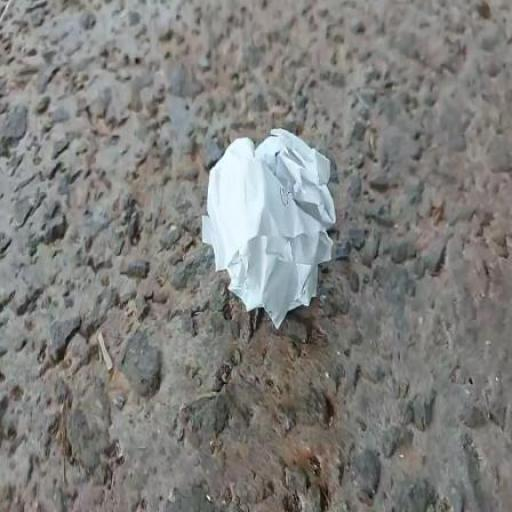paper: (138, 78, 402, 371)
